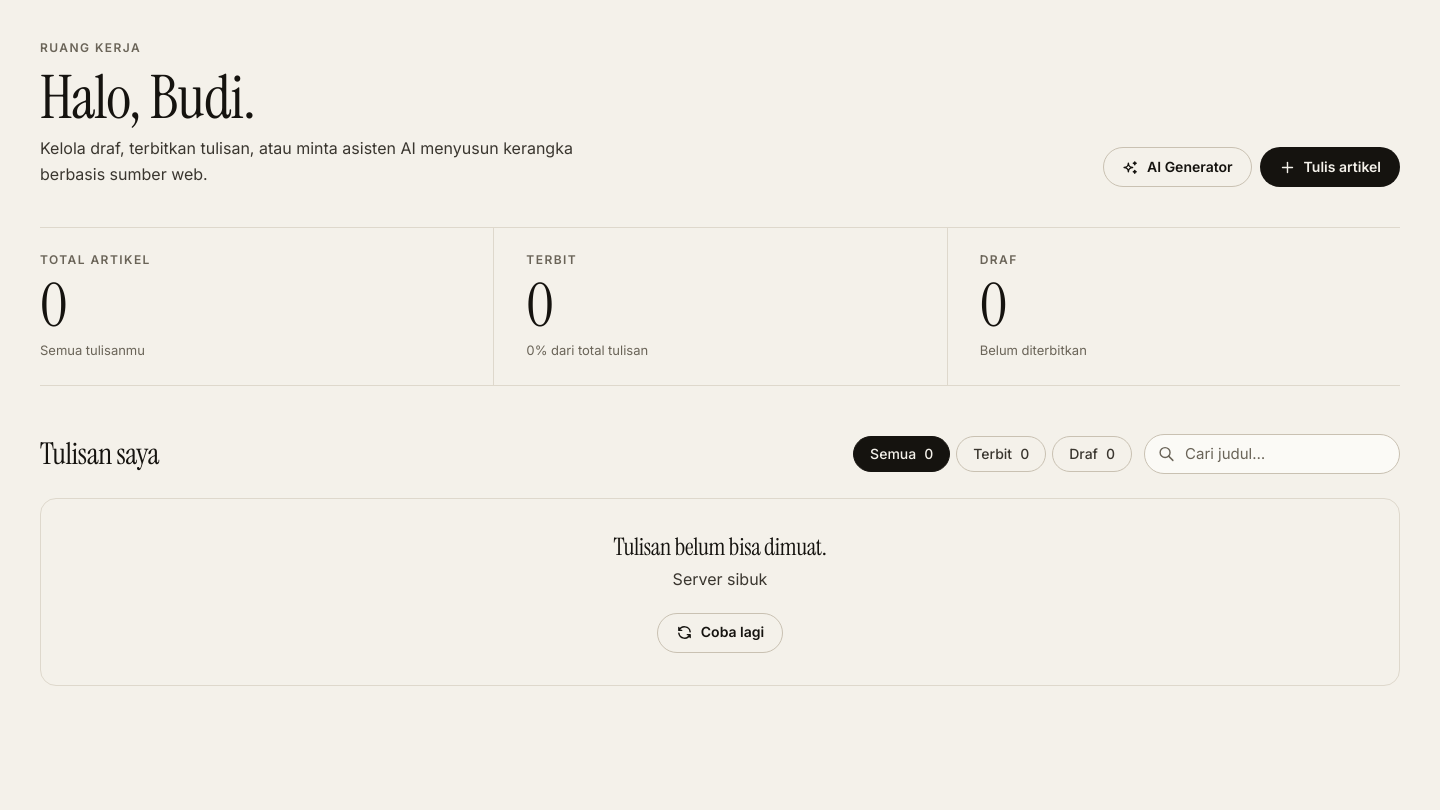
Scenario: AuthorDashboard › recovers from a failed load
Expected: the message shows "Server sibuk", [673,569,767,589]
Click the button "Coba lagi".
click(720, 633)  # box [657,613,783,653]
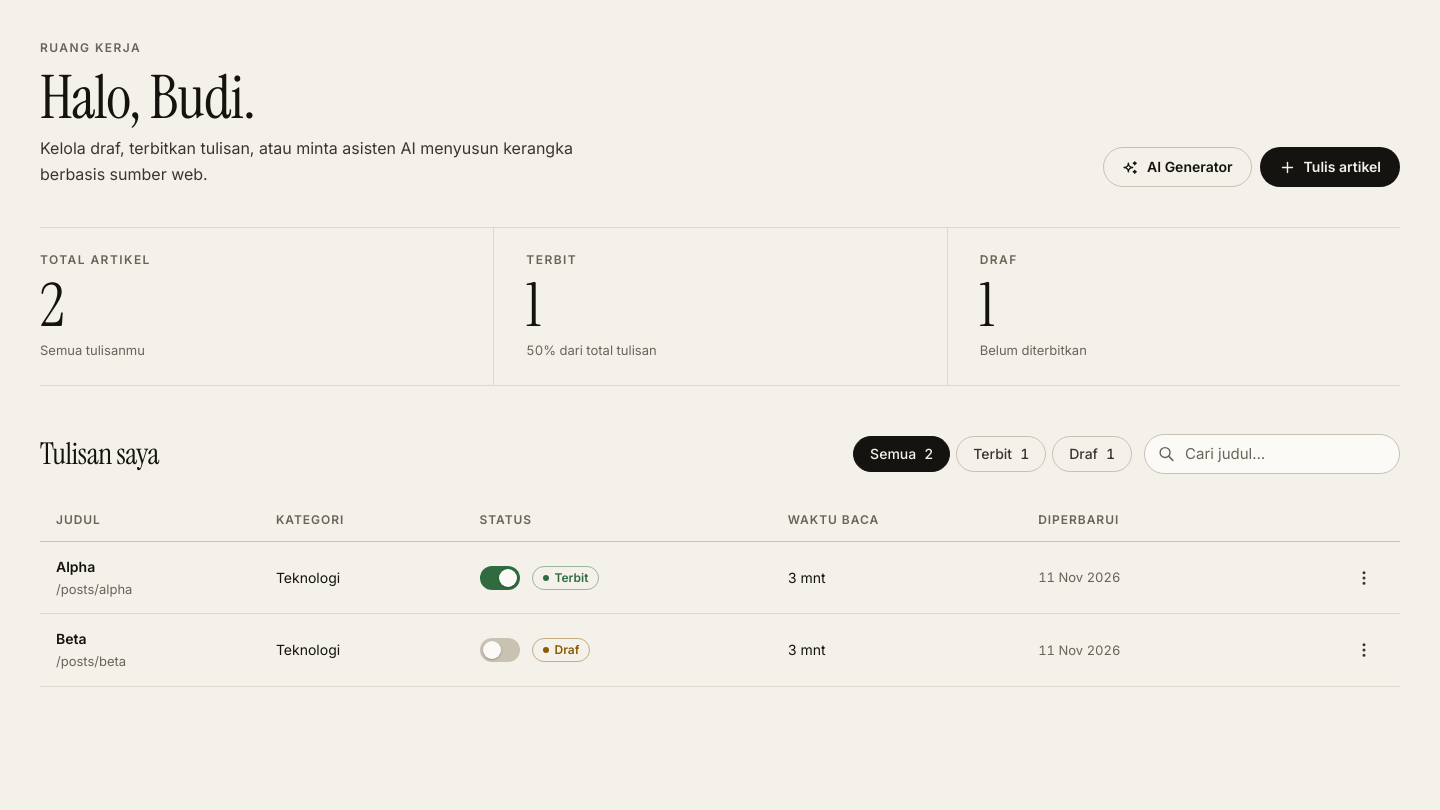
Expected: the text "Alpha" is shown, [56,558,95,575]
